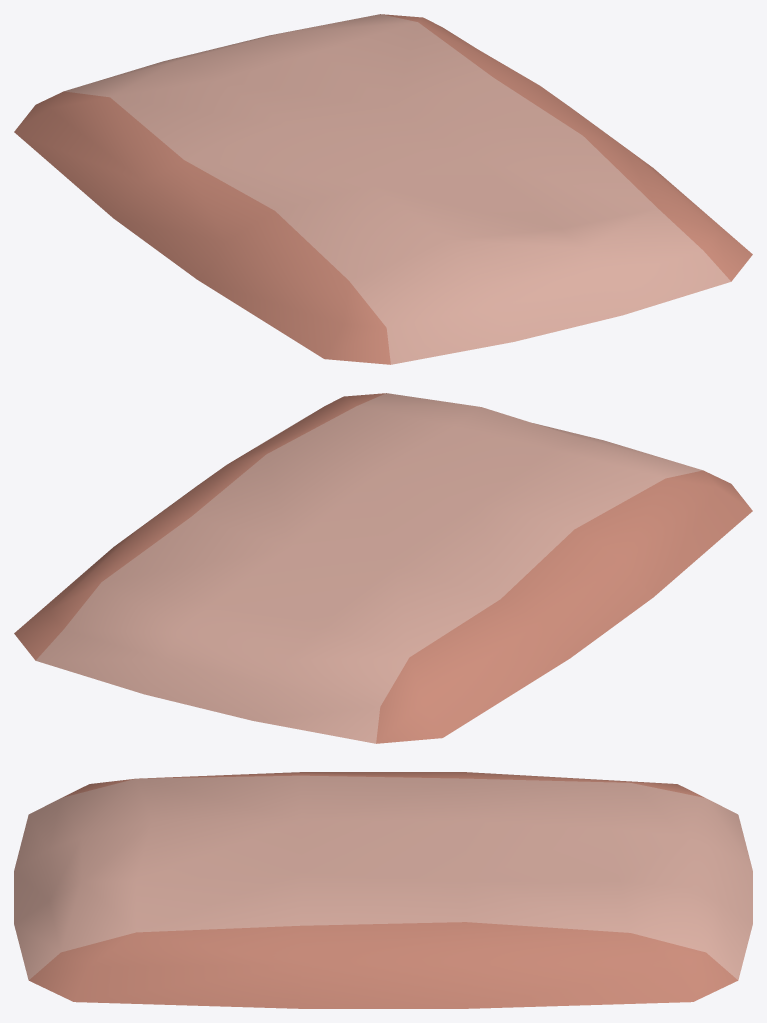
File: road_001.glb
The picture shows the model from 3 angles, top to bottom: view 1: azimuth 30°, elevation 25°; view 2: azimuth 150°, elevation 25°; view 3: azimuth 270°, elevation 25°; orthographic projection.
Parts seen in each view (by area): view 1: road_001; view 2: road_001; view 3: road_001.
Part boxes in pixels (x1,y1,x2,y2): road_001: (14, 14, 752, 364); road_001: (14, 393, 752, 743); road_001: (14, 772, 752, 1008).
Bounding box in the file's own units: 6.39 × 0.6826 × 8.97.
Materials: 1 (1 with a texture image).
